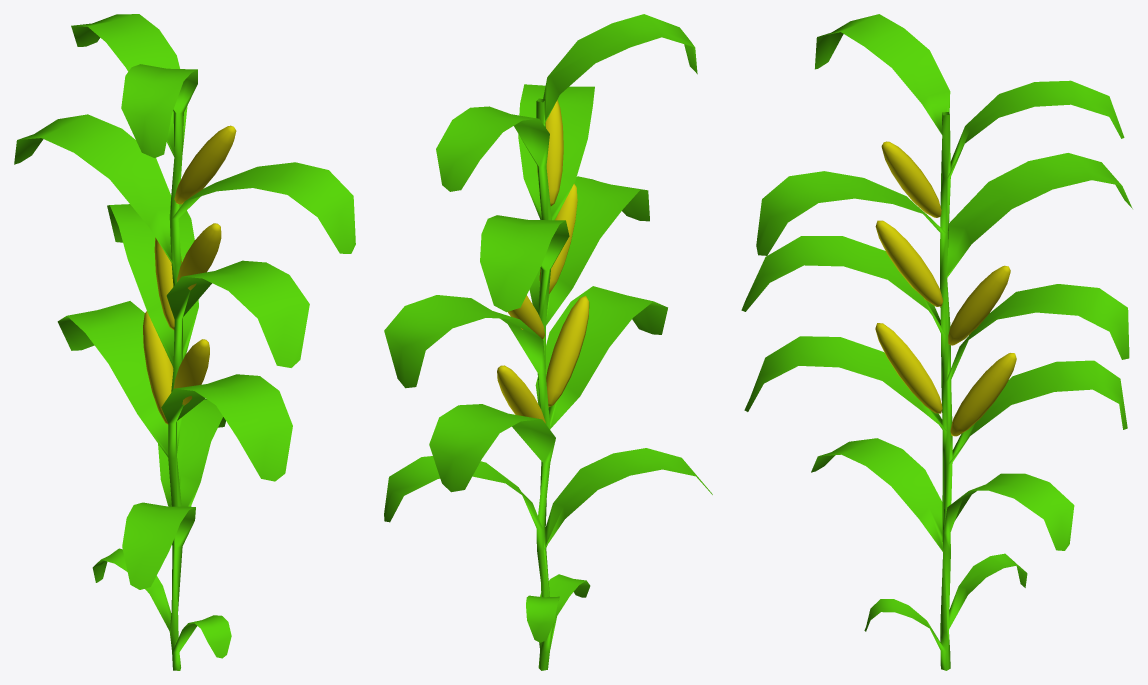
The model's file is corn_04.fbx.
3 views of the same model, side by side, from view 1: azimuth 30°, elevation 25°; view 2: azimuth 150°, elevation 25°; view 3: azimuth 270°, elevation 25° (orthographic). The views are drawn at different scales.
Parts seen in each view (by area): view 1: Cube; view 2: Cube; view 3: Cube.
Boxes of the visible parts, left/top/right/bottom form: Cube: left=14, top=14, right=355, bottom=670; Cube: left=384, top=14, right=712, bottom=670; Cube: left=741, top=14, right=1132, bottom=670.
Bounding box in the file's own units: 61.4 × 174 × 100.
